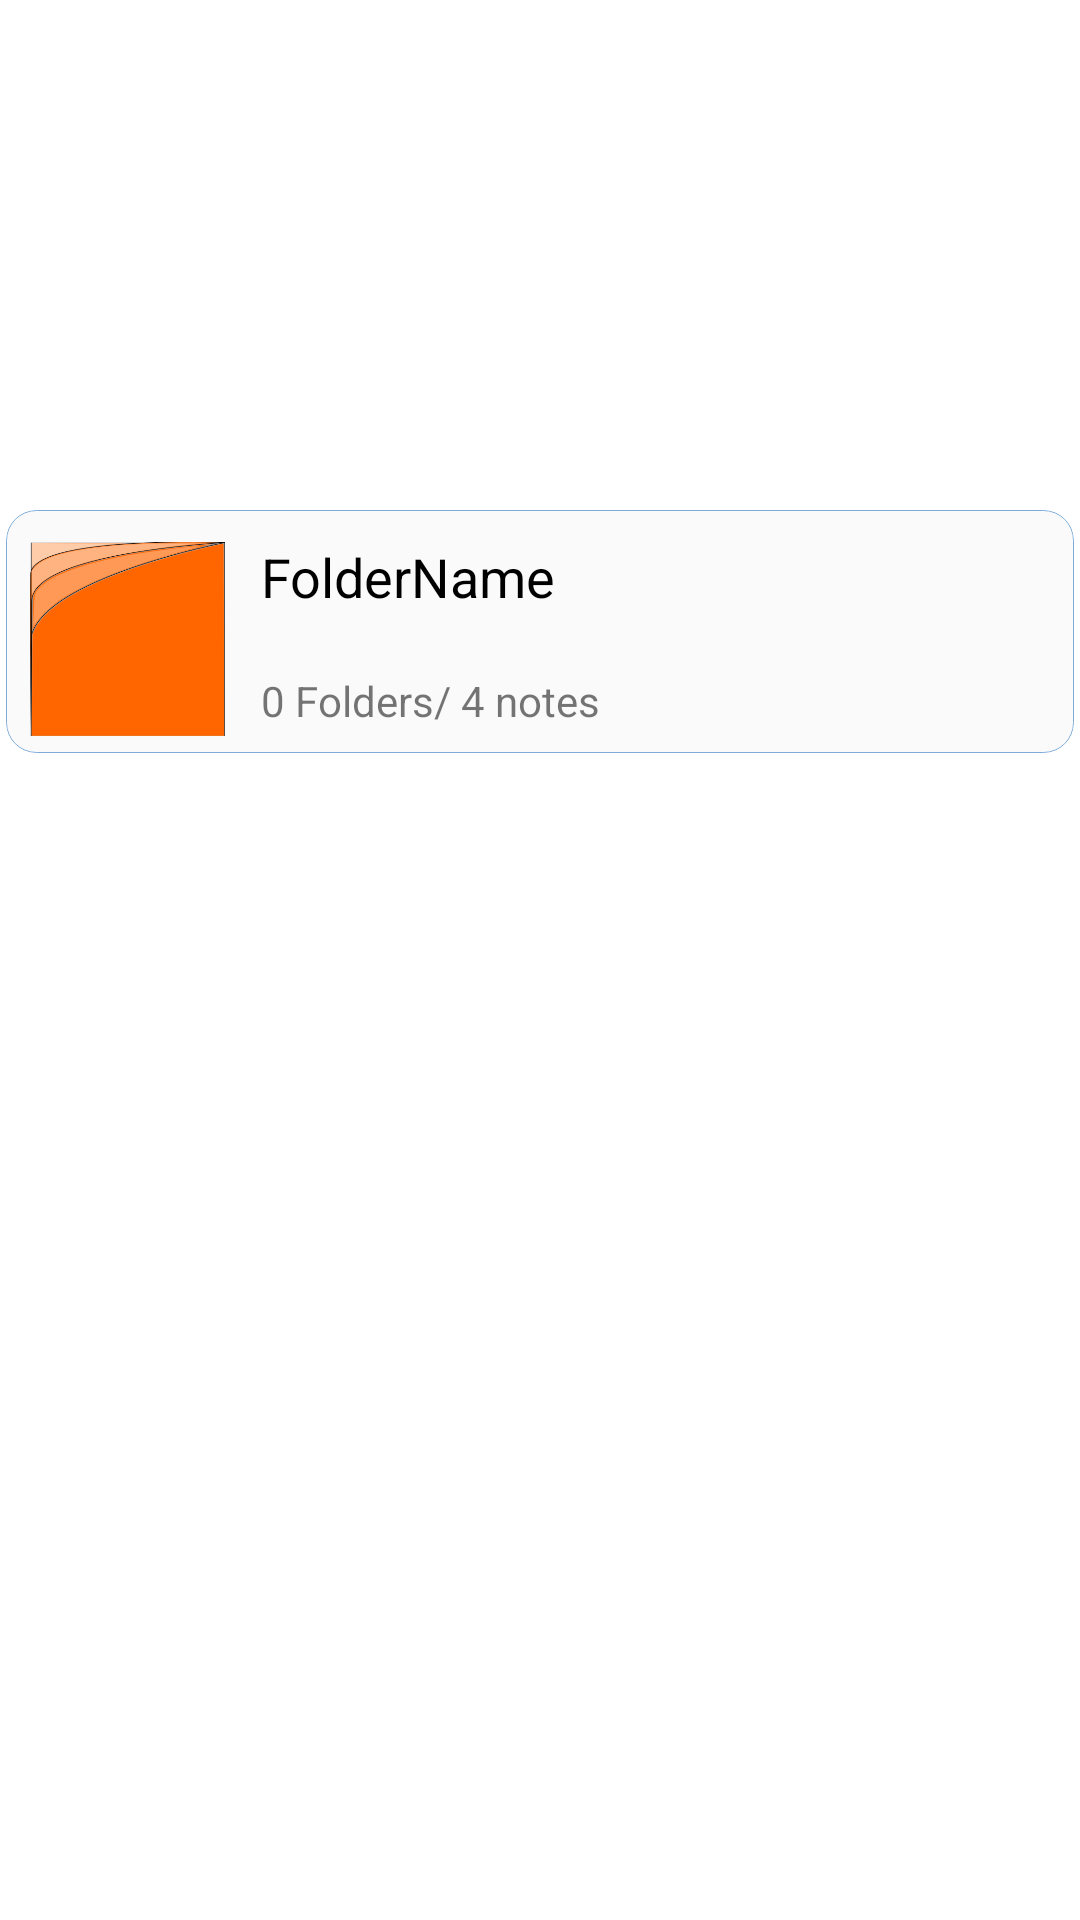

Point at icon controls on the screen. Image size 1080px×1920px, points as point (x, y).
foldericon: point (127, 639)
